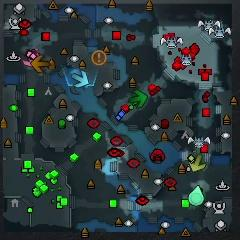p2: (189, 185, 205, 206)
x1: (23, 49, 34, 68)
x2: (189, 154, 206, 172)
x3: (72, 70, 89, 88)
x4: (130, 89, 147, 108)
x5: (31, 55, 49, 72)
